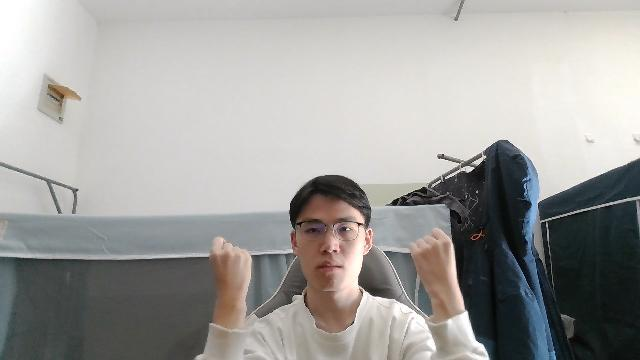ten: (407, 226, 463, 306), (206, 234, 253, 309)
